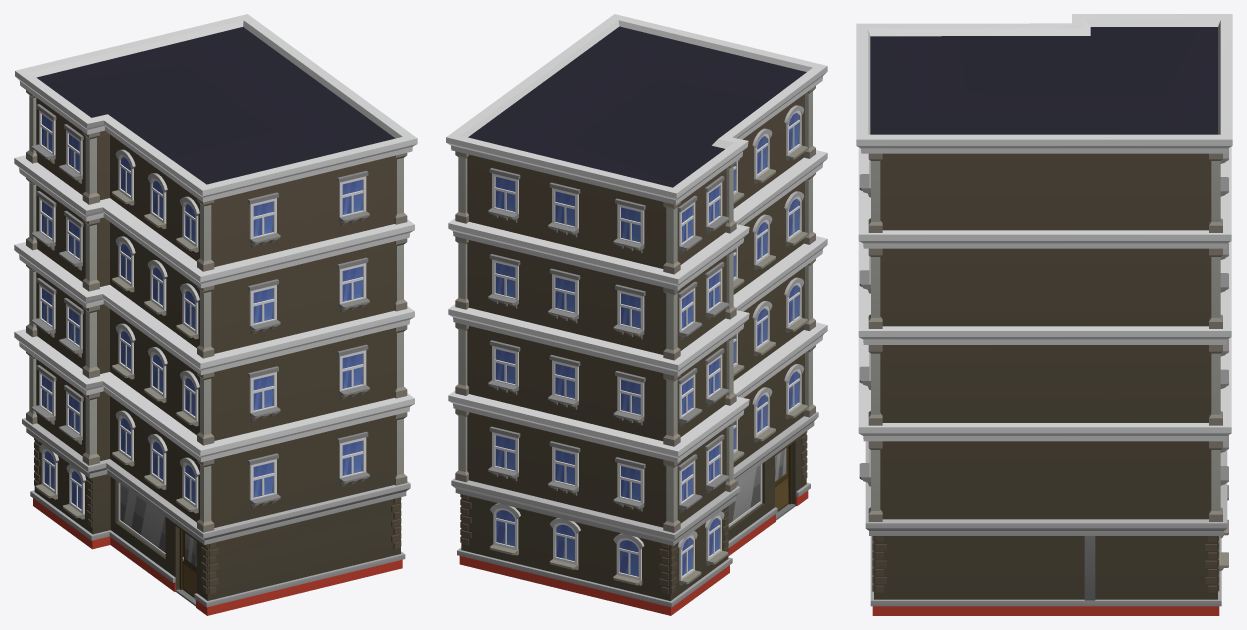
The model's file is Building_1_5_J.fbx.
The picture shows the model from 3 angles, left to right: view 1: azimuth 30°, elevation 25°; view 2: azimuth 150°, elevation 25°; view 3: azimuth 270°, elevation 25°; orthographic projection. The views are drawn at different scales.
Visible parts, largest first — view 1: Building_1_5_J; view 2: Building_1_5_J; view 3: Building_1_5_J.
Boxes of the visible parts, left/top/right/bottom form: Building_1_5_J: left=14, top=14, right=417, bottom=615; Building_1_5_J: left=446, top=14, right=827, bottom=615; Building_1_5_J: left=856, top=14, right=1232, bottom=615.
Bounding box in the file's own units: 847 × 1501 × 1067.
